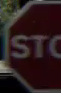Stop: (3, 11, 59, 71)
